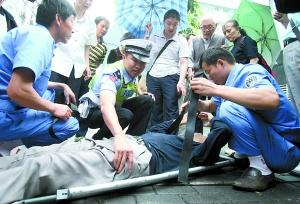10+: (1, 1, 300, 204)
down: (1, 101, 235, 204)
